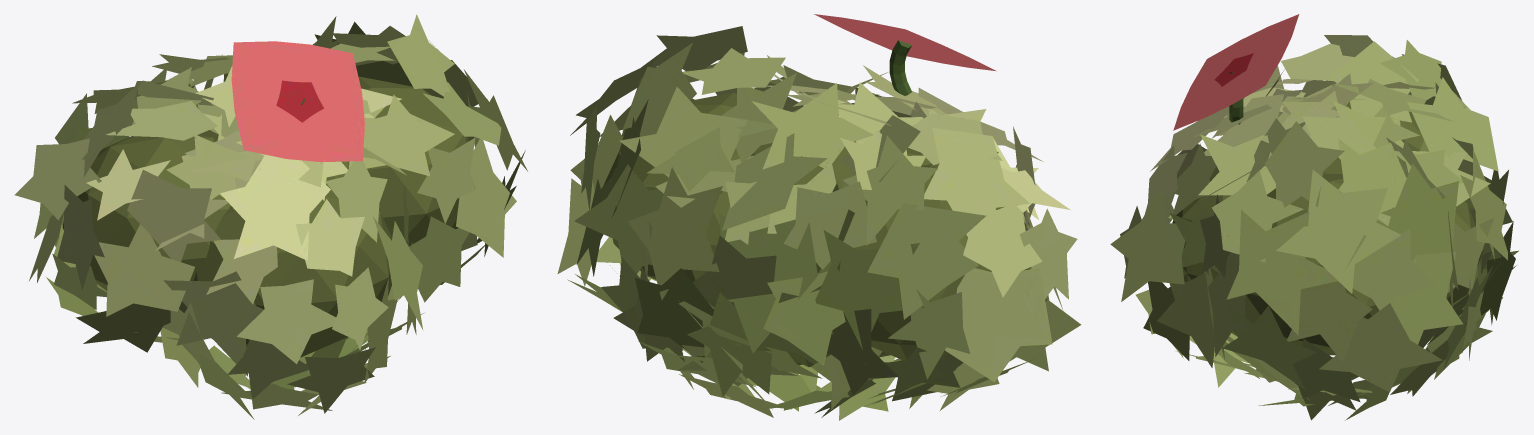
Rendered from flower_red_hd.glb.
3 views of the same model, side by side, from view 1: azimuth 30°, elevation 25°; view 2: azimuth 150°, elevation 25°; view 3: azimuth 270°, elevation 25° (orthographic). The views are drawn at different scales.
Parts seen in each view (by area): view 1: flower_red; view 2: flower_red; view 3: flower_red.
Boxes of the visible parts, bbox=[...] form: flower_red: bbox=[14, 14, 527, 419]; flower_red: bbox=[557, 14, 1081, 420]; flower_red: bbox=[1110, 14, 1518, 420].
Size of the model in its own units: 0.5899 by 0.4485 by 0.4708.
Materials: 1 (1 with a texture image).
